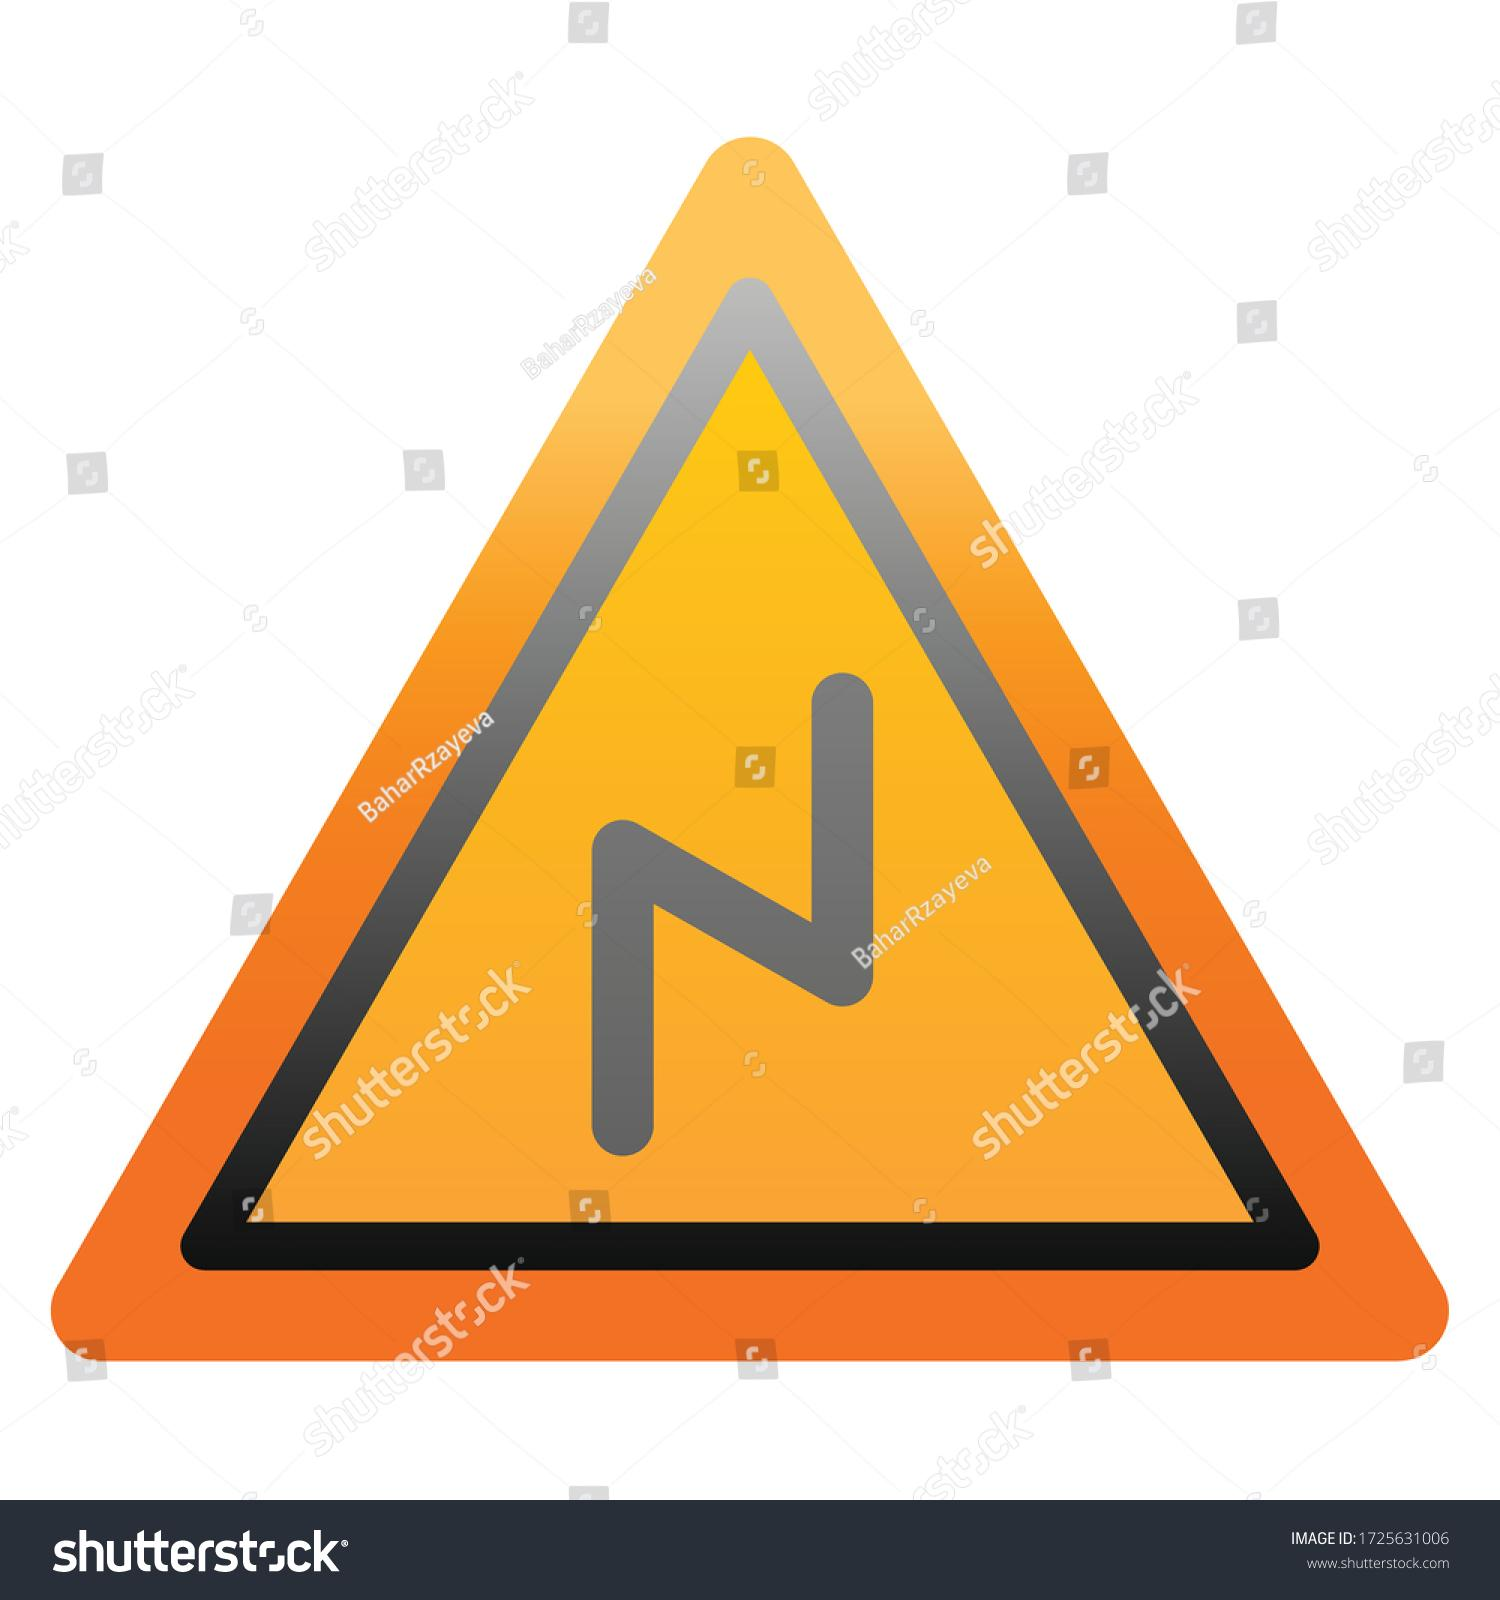Right Reverse Bend: (70, 134, 1445, 1394)
